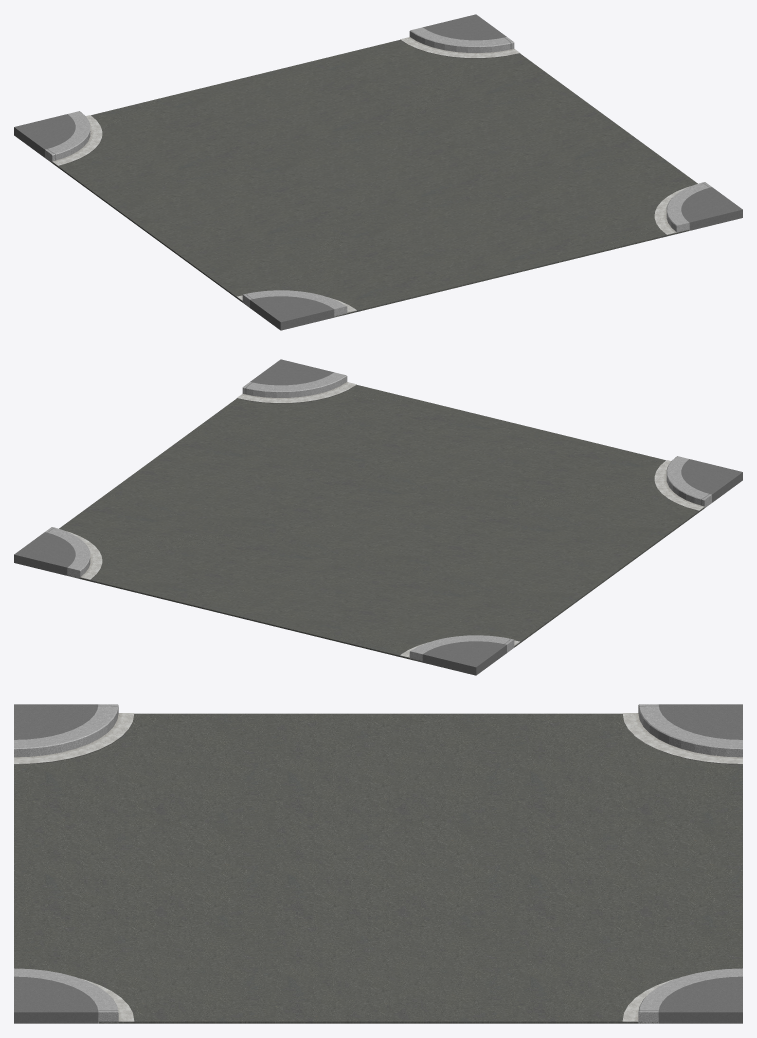
Rendered from croisement2et2.obj.
3 views of the same model, one above another, from view 1: azimuth 30°, elevation 25°; view 2: azimuth 150°, elevation 25°; view 3: azimuth 270°, elevation 25° (orthographic). The views are drawn at different scales.
Visible parts, largest first — view 1: croisement2et2_Plane.029; view 2: croisement2et2_Plane.029; view 3: croisement2et2_Plane.029.
Part boxes in pixels (bbox=[...]): croisement2et2_Plane.029: bbox=[14, 14, 742, 330]; croisement2et2_Plane.029: bbox=[14, 359, 742, 675]; croisement2et2_Plane.029: bbox=[14, 704, 742, 1023].
Bounding box in the file's own units: 1045 × 18 × 1045.
Materials: 13 (13 with a texture image).
